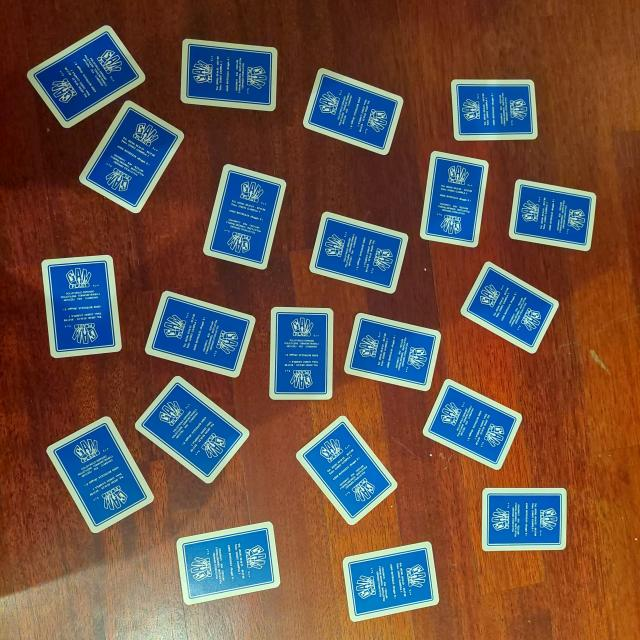card: (44, 411, 157, 536), (133, 376, 249, 484), (79, 101, 179, 215), (26, 27, 147, 121), (297, 419, 395, 526), (144, 291, 253, 378), (174, 523, 282, 606), (454, 262, 555, 350), (302, 70, 402, 158), (41, 255, 124, 358), (422, 381, 516, 468), (180, 34, 278, 113), (311, 211, 401, 297), (208, 168, 278, 272), (343, 543, 441, 617), (345, 314, 435, 394), (449, 76, 539, 145), (418, 154, 482, 250), (267, 308, 332, 402), (509, 181, 593, 252), (481, 486, 568, 554)
